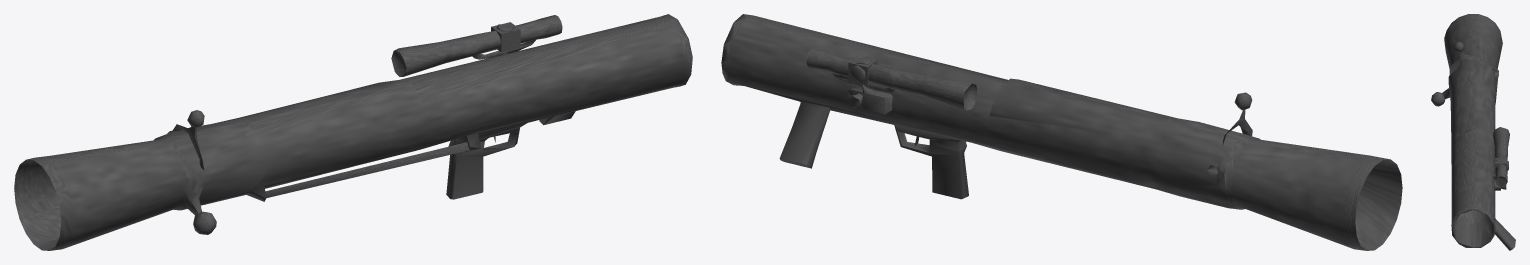
Rendered from roblox_classic_rocket_launcher.glb.
The picture shows the model from 3 angles, left to right: view 1: azimuth 30°, elevation 25°; view 2: azimuth 150°, elevation 25°; view 3: azimuth 270°, elevation 25°; orthographic projection. The views are drawn at different scales.
Visible parts, largest first — view 1: Object_2; view 2: Object_2; view 3: Object_2.
Part boxes in pixels (box(x1,y1,x2,y2)): Object_2: box(14, 14, 692, 250); Object_2: box(721, 14, 1402, 250); Object_2: box(1431, 14, 1515, 250).
Bounding box in the file's own units: 4.42 × 1.06 × 0.8394.
1 material, 1 textured.
